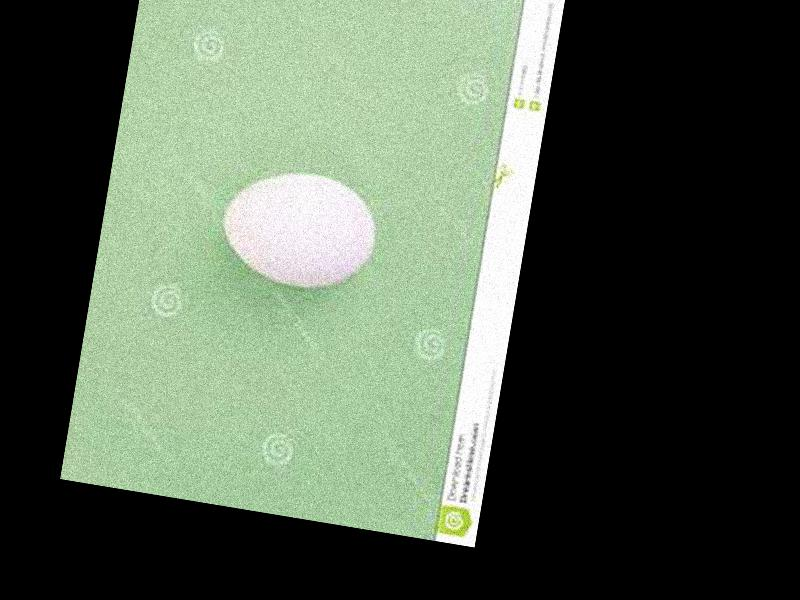Eggs: (216, 163, 382, 298)
